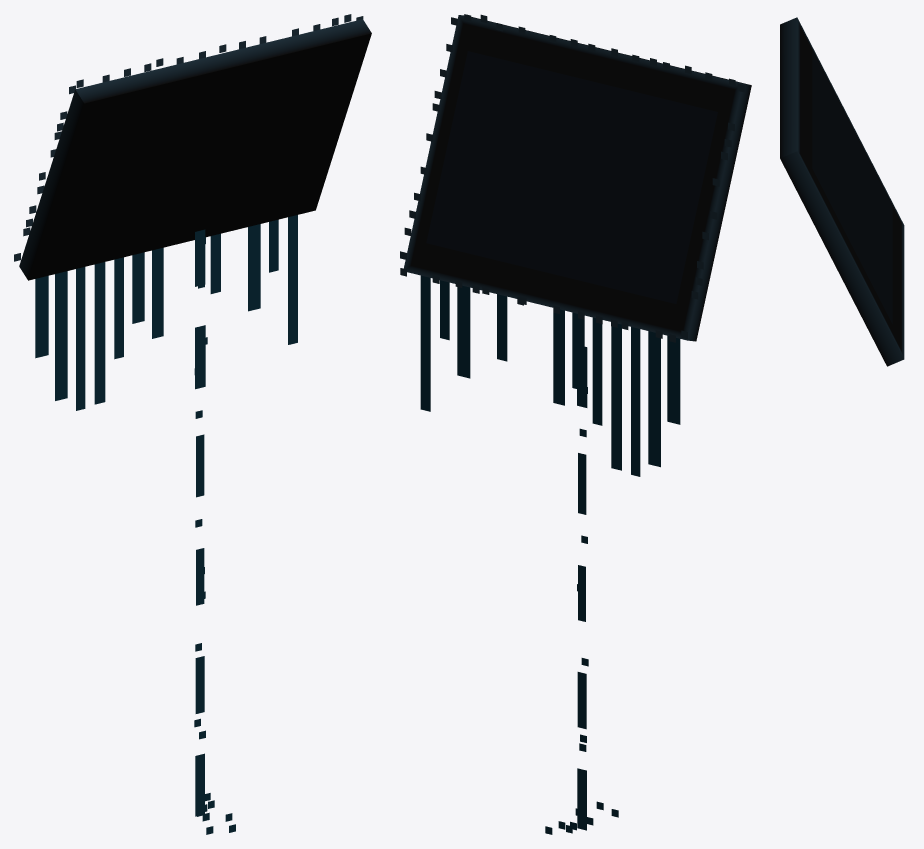
The model's file is hack_panel.glb.
3 renders of one model, left to right at view 1: azimuth 30°, elevation 25°; view 2: azimuth 150°, elevation 25°; view 3: azimuth 270°, elevation 25°, orthographic. The views are drawn at different scales.
Visible parts, largest first — view 1: panel_frame, panel_streaks_hang, panel_stand_streaks, panel_edge_pts, panel_stand_pts; view 2: Screen, panel_frame, panel_streaks_hang, panel_edge_pts, panel_stand_streaks, panel_stand_pts; view 3: panel_frame, Screen.
Part boxes in pixels (x1,y1,x2,y2): panel_frame: [19, 19, 371, 280]; panel_streaks_hang: [35, 215, 297, 410]; panel_stand_streaks: [195, 229, 205, 816]; panel_edge_pts: [14, 14, 363, 261]; panel_stand_pts: [194, 237, 235, 834]; Screen: [426, 51, 717, 303]; panel_frame: [403, 15, 751, 341]; panel_streaks_hang: [420, 275, 680, 476]; panel_edge_pts: [400, 14, 744, 342]; panel_stand_streaks: [577, 346, 587, 830]; panel_stand_pts: [545, 387, 618, 834]; panel_frame: [780, 17, 904, 366]; Screen: [812, 51, 892, 323].
Size of the model in its own units: 0.5175 by 1.3 by 0.205.
